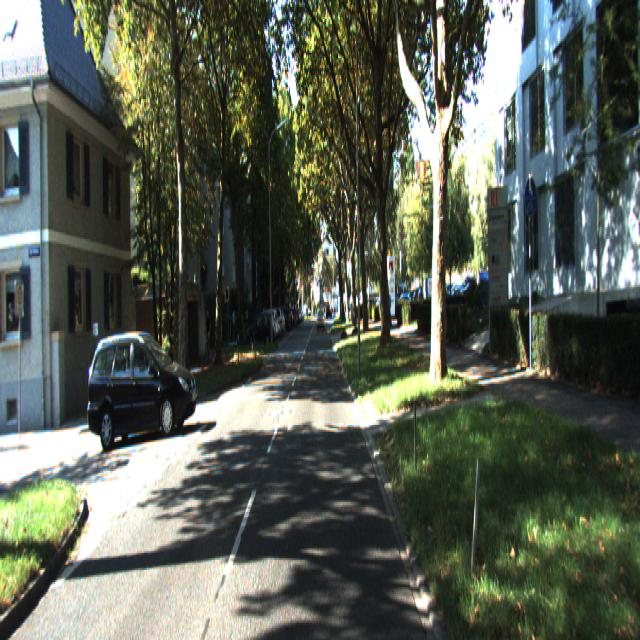Car: (86, 332, 198, 451), (246, 315, 272, 351)
